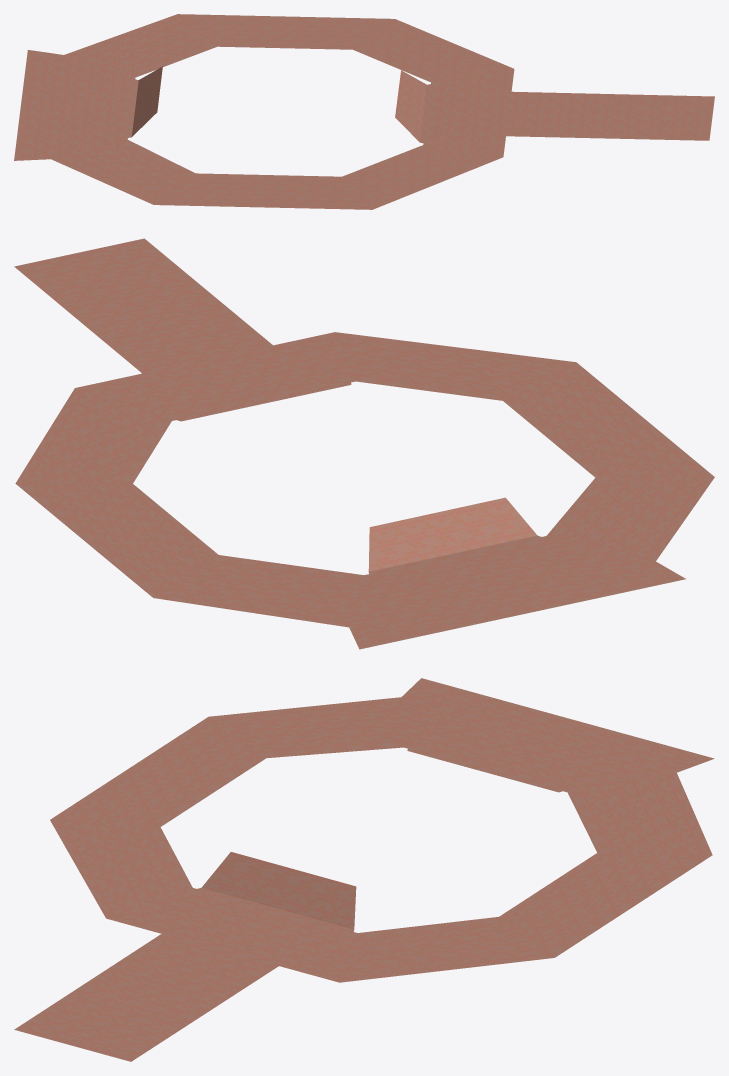
File: kd_stage_1364a3_13_12_bounded.glb
3 views of the same model, one above another, from view 1: azimuth 30°, elevation 25°; view 2: azimuth 150°, elevation 25°; view 3: azimuth 270°, elevation 25° (orthographic). The views are drawn at different scales.
Parts seen in each view (by area): view 1: kd_stage_1364a3_13_12_bounded; view 2: kd_stage_1364a3_13_12_bounded; view 3: kd_stage_1364a3_13_12_bounded.
Boxes of the visible parts, <box> form: kd_stage_1364a3_13_12_bounded: <box>14,14,714,209</box>; kd_stage_1364a3_13_12_bounded: <box>14,238,714,649</box>; kd_stage_1364a3_13_12_bounded: <box>14,678,714,1061</box>.
Size of the model in its own units: 30.56 by 1 by 23.59.
Materials: 1 (1 with a texture image).
